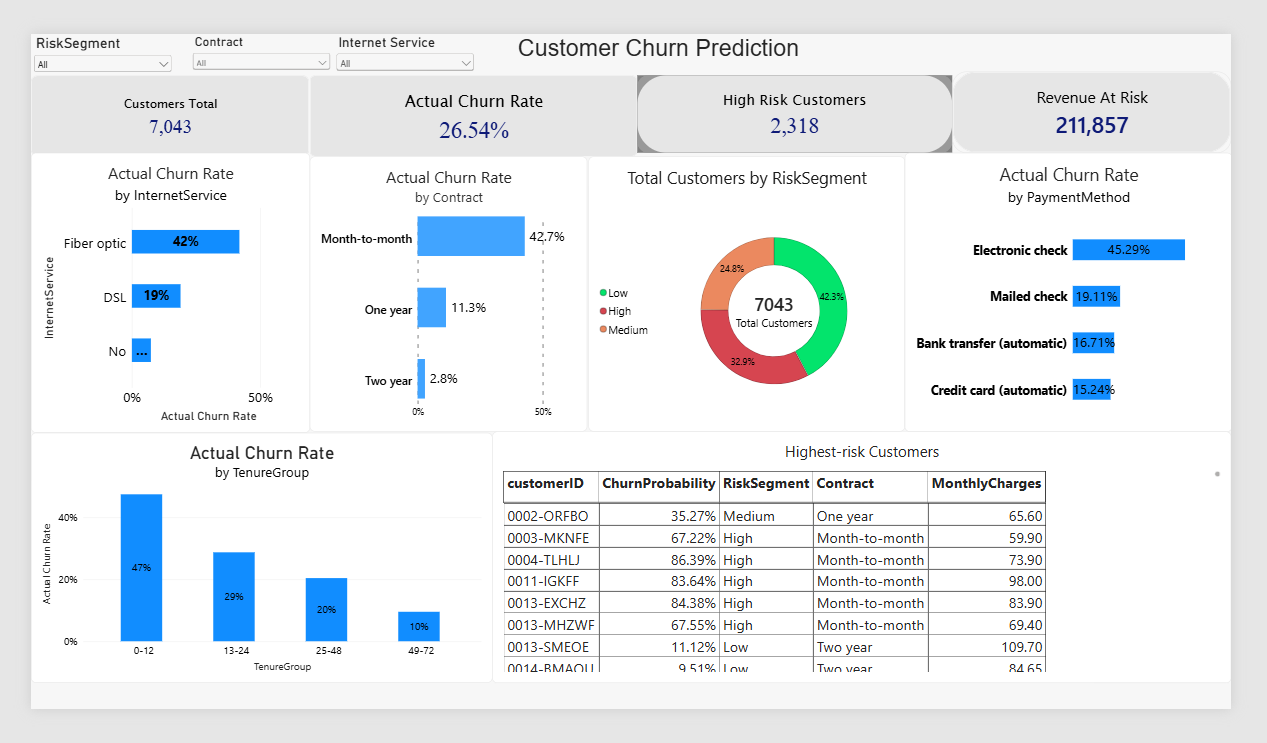

Layout of this report page (visuals, bound fields, positions):
{"tool":"powerbi","page":{"name":"Page 1","canvas":[1920,1080],"ordinal":0},"visuals":[{"type":"cardVisual","fields":{"Data":["churn_dashboard_data.Total Customers Display"]},"box":[0,65,445,130],"z":0},{"type":"cardVisual","fields":{"Data":["churn_dashboard_data.Actual Churn Rate"]},"box":[446,66,524,130],"z":1000},{"type":"donutChart","fields":{"Category":["churn_dashboard_data.RiskSegment"],"Y":["churn_dashboard_data.Total Customers"]},"box":[892,196,506,440],"z":2000},{"type":"clusteredBarChart","fields":{"Category":["churn_dashboard_data.Contract"],"Y":["churn_dashboard_data.Actual Churn Rate"]},"box":[446,196,444,440],"z":3000},{"type":"cardVisual","fields":{"Data":["churn_dashboard_data.High_Risk Customers"]},"box":[970,66,504,124],"z":4000},{"type":"clusteredBarChart","fields":{"Category":["churn_dashboard_data.InternetService"],"Y":["churn_dashboard_data.Actual Churn Rate"]},"box":[0,190,446,448],"z":5000},{"type":"clusteredBarChart","fields":{"Category":["churn_dashboard_data.PaymentMethod"],"Y":["churn_dashboard_data.Actual Churn Rate"]},"box":[1398,190,524,446],"z":6000},{"type":"columnChart","fields":{"Category":["churn_dashboard_data.TenureGroup"],"Y":["churn_dashboard_data.Actual Churn Rate"]},"box":[0,638,738,400],"z":7000},{"type":"tableEx","title":"Highest-risk Customers","fields":{"Values":["churn_dashboard_data.customerID","churn_dashboard_data.ChurnProbability","churn_dashboard_data.RiskSegment","churn_dashboard_data.Contract","churn_dashboard_data.MonthlyCharges"]},"box":[738,636,1182,402],"z":8000},{"type":"slicer","fields":{"Values":["churn_dashboard_data.Contract"]},"box":[254,0,230,60],"z":9000},{"type":"slicer","fields":{"Values":["churn_dashboard_data.InternetService"]},"box":[484,0,230,60],"z":12000},{"type":"slicer","fields":{"Values":["churn_dashboard_data.RiskSegment"]},"box":[0,0,230,60],"z":13000},{"type":"textbox","box":[714,0,580,60],"z":16000},{"type":"cardVisual","fields":{"Data":["churn_dashboard_data.Revenue At Risk"]},"box":[1474,60,446,130],"z":16001}]}

Visuals, with their boxes on the page's 1920x1080 design canvas (x1, y1, x2, y2). These are canvas units, not pixel positions in the 1267x743 screenshot, which may show the page scaled, cropped or inside an application window:
cardVisual - churn_dashboard_data.Total Customers Display: Rect(0, 65, 445, 195)
cardVisual - churn_dashboard_data.Actual Churn Rate: Rect(446, 66, 970, 196)
donutChart - churn_dashboard_data.RiskSegment x churn_dashboard_data.Total Customers: Rect(892, 196, 1398, 636)
clusteredBarChart - churn_dashboard_data.Contract x churn_dashboard_data.Actual Churn Rate: Rect(446, 196, 890, 636)
cardVisual - churn_dashboard_data.High_Risk Customers: Rect(970, 66, 1474, 190)
clusteredBarChart - churn_dashboard_data.InternetService x churn_dashboard_data.Actual Churn Rate: Rect(0, 190, 446, 638)
clusteredBarChart - churn_dashboard_data.PaymentMethod x churn_dashboard_data.Actual Churn Rate: Rect(1398, 190, 1922, 636)
columnChart - churn_dashboard_data.TenureGroup x churn_dashboard_data.Actual Churn Rate: Rect(0, 638, 738, 1038)
"Highest-risk Customers" tableEx: Rect(738, 636, 1920, 1038)
slicer - churn_dashboard_data.Contract: Rect(254, 0, 484, 60)
slicer - churn_dashboard_data.InternetService: Rect(484, 0, 714, 60)
slicer - churn_dashboard_data.RiskSegment: Rect(0, 0, 230, 60)
textbox: Rect(714, 0, 1294, 60)
cardVisual - churn_dashboard_data.Revenue At Risk: Rect(1474, 60, 1920, 190)
